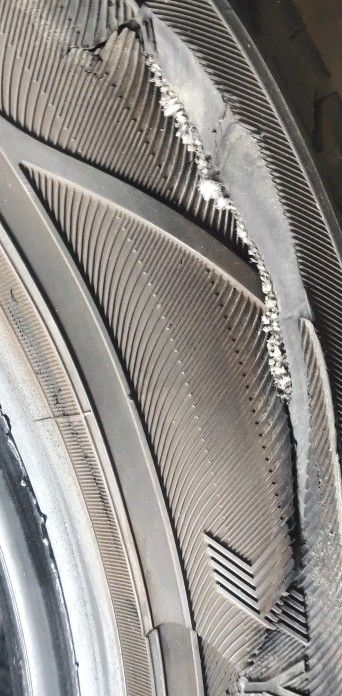bead_damage: (38, 2, 314, 691)
cut: (54, 14, 308, 570)
